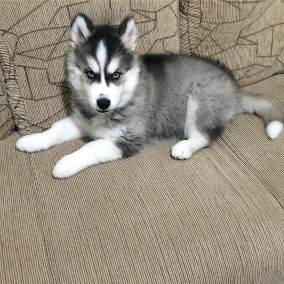husky: (10, 10, 266, 183)
